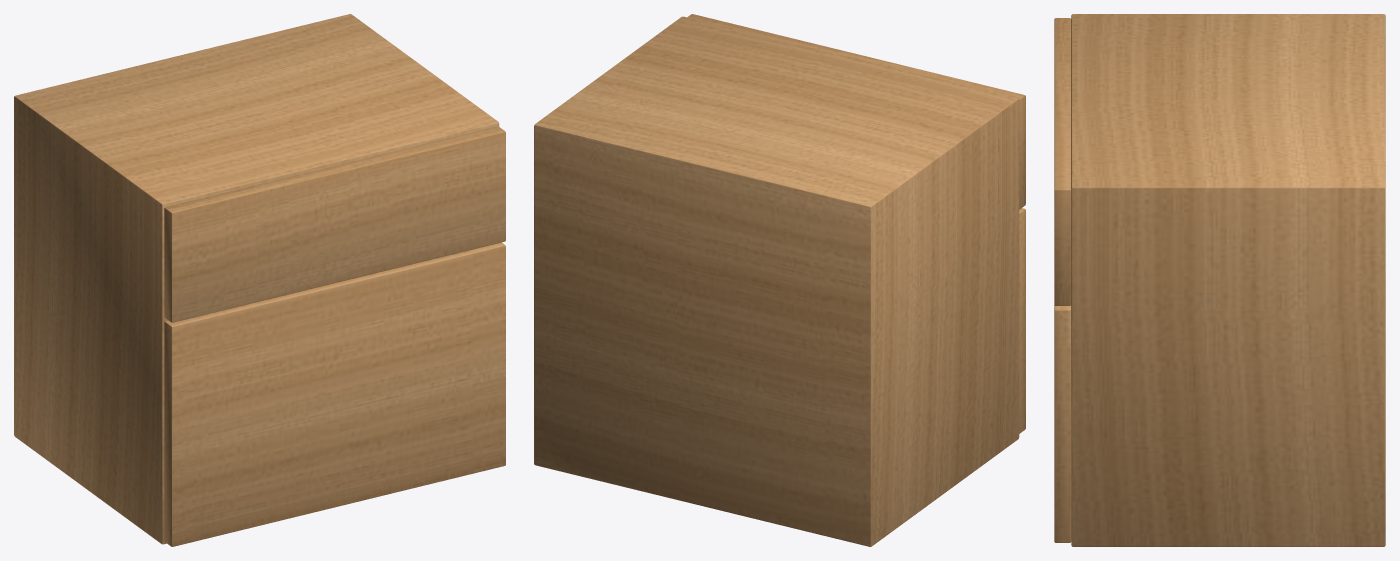
Rendered from recs6Z90sKDBjC2cb.glb.
3 renders of one model, left to right at view 1: azimuth 30°, elevation 25°; view 2: azimuth 150°, elevation 25°; view 3: azimuth 270°, elevation 25°, orthographic. The views are drawn at different scales.
Visible parts, largest first — view 1: chevet_chambre_etage_2_Corps; view 2: chevet_chambre_etage_2_Corps; view 3: chevet_chambre_etage_2_Corps.
Boxes of the visible parts, x1,y1,x2,y2 form: chevet_chambre_etage_2_Corps: (14,14,505,546); chevet_chambre_etage_2_Corps: (534,14,1025,546); chevet_chambre_etage_2_Corps: (1054,14,1385,546).
Bounding box in the file's own units: 0.435 × 0.42 × 0.35.
Materials: 1 (1 with a texture image).
